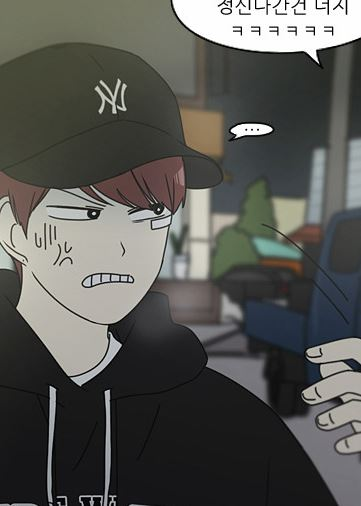hat: (1, 41, 225, 193)
